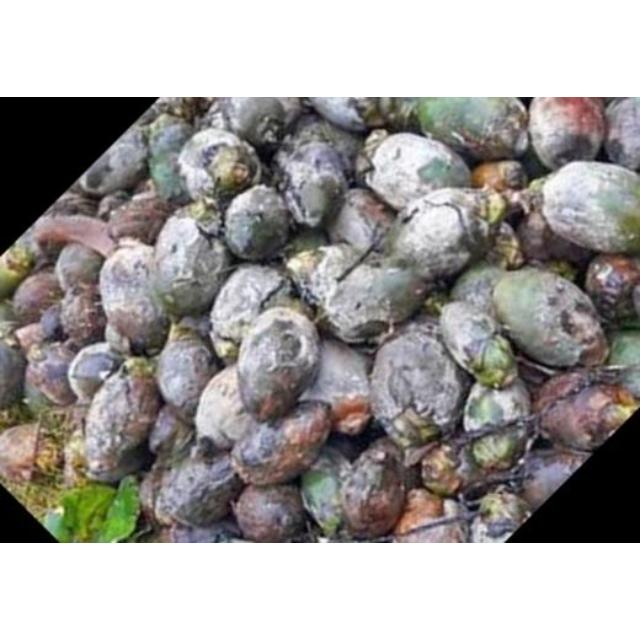damaged: (367, 324, 471, 448), (490, 268, 604, 366), (384, 188, 494, 284), (234, 305, 320, 423), (82, 361, 164, 484), (538, 160, 640, 256), (314, 258, 424, 344), (230, 398, 332, 488), (150, 214, 232, 318), (534, 370, 638, 452), (366, 133, 470, 211), (155, 442, 245, 530), (97, 245, 167, 351), (208, 264, 292, 352), (438, 300, 520, 390), (274, 137, 352, 230), (175, 128, 263, 206), (338, 444, 409, 540), (461, 376, 535, 462), (154, 322, 220, 418), (516, 203, 596, 271), (222, 186, 292, 262), (193, 366, 251, 452), (296, 242, 366, 310), (146, 118, 198, 204), (233, 483, 307, 543), (213, 98, 294, 152), (24, 337, 84, 409), (328, 188, 392, 254), (582, 254, 640, 322), (106, 192, 174, 245), (59, 282, 109, 346), (54, 240, 106, 294), (11, 273, 61, 325)
